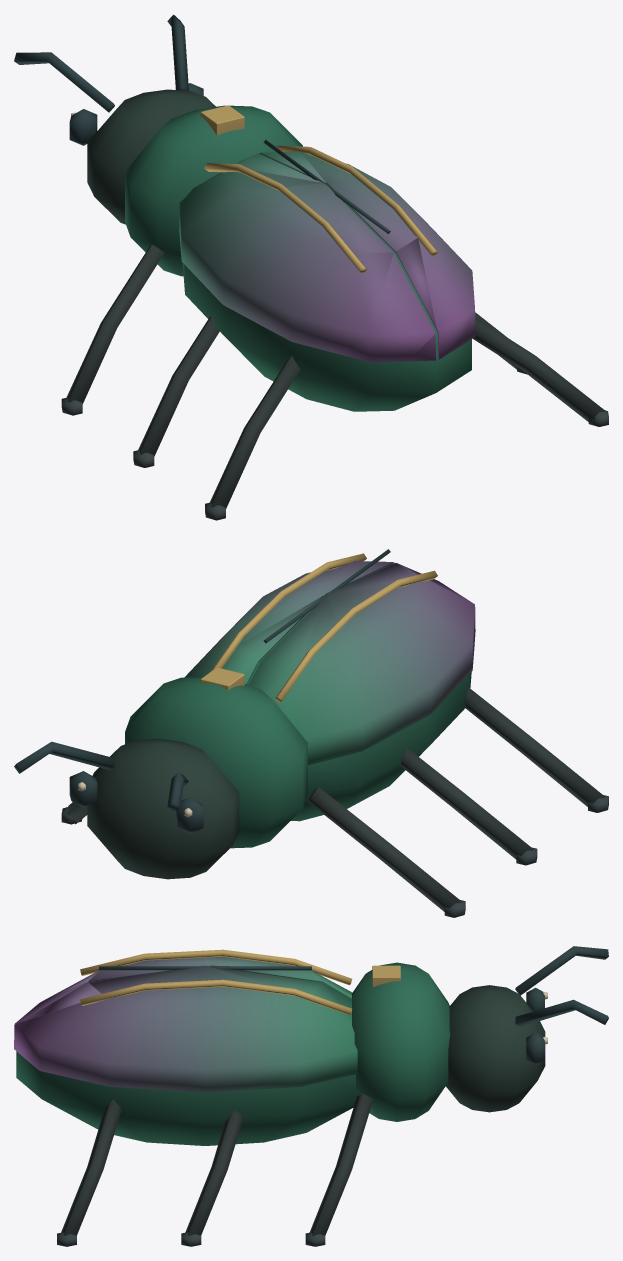
Rendered from insect_jewel_beetle.glb.
3 views of the same model, one above another, from view 1: azimuth 30°, elevation 25°; view 2: azimuth 150°, elevation 25°; view 3: azimuth 270°, elevation 25° (orthographic). The views are drawn at different scales.
Parts seen in each view (by area): view 1: Model; view 2: Model; view 3: Model.
Part boxes in pixels (x1,y1,x2,y2): Model: (14, 14, 608, 520); Model: (14, 549, 608, 917); Model: (14, 946, 608, 1246).
Size of the model in its own units: 0.1151 by 0.0633 by 0.17.
